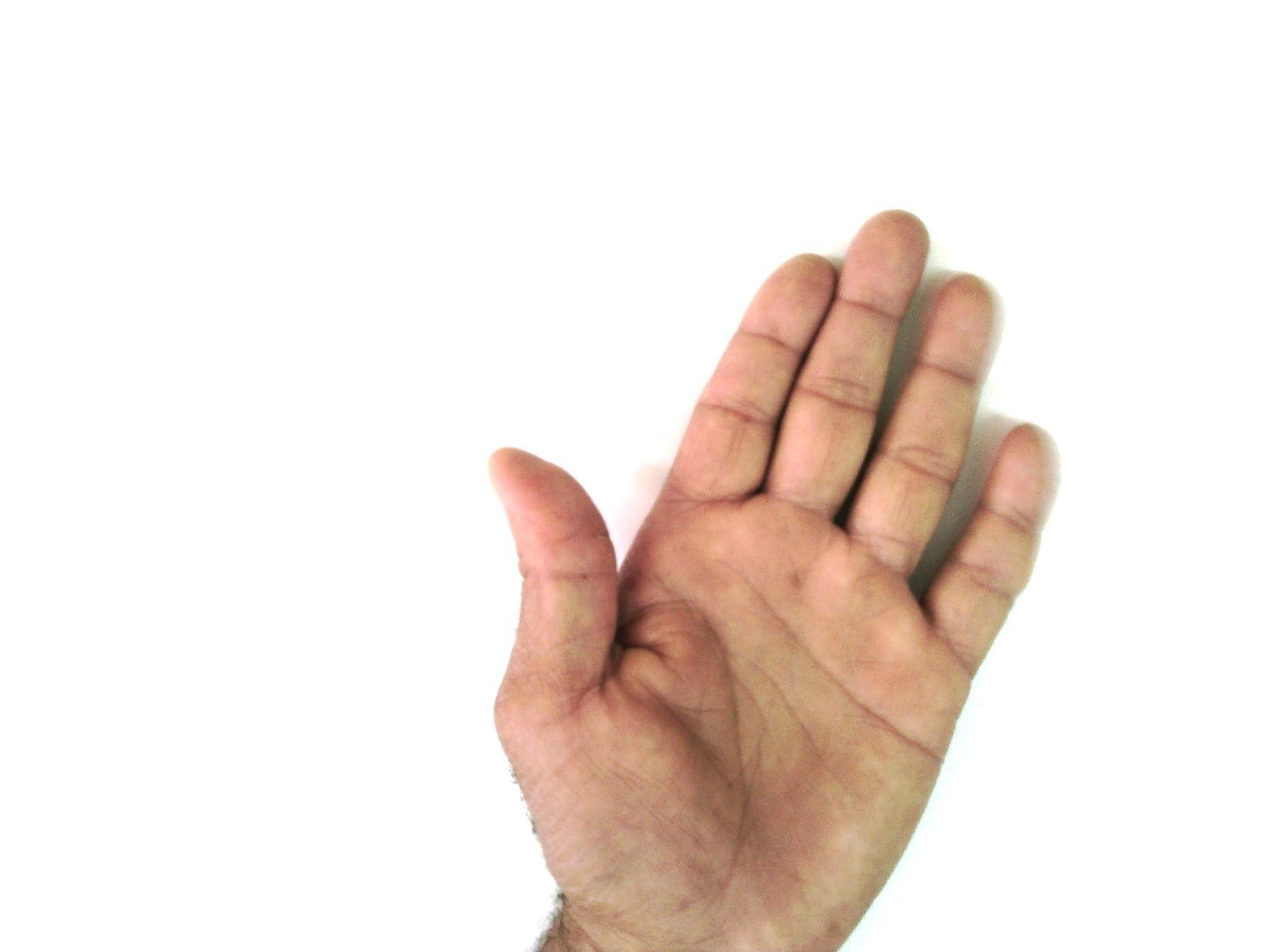open_palm: (485, 208, 1064, 951)
